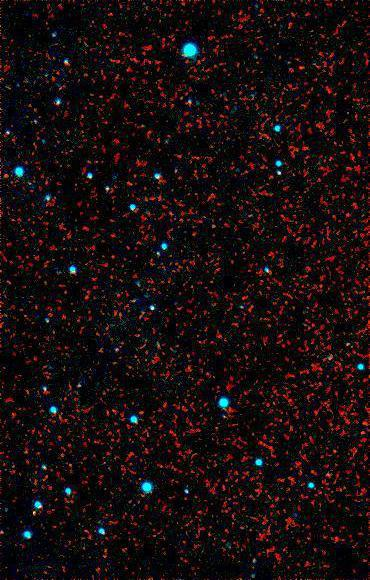star: (20, 495, 50, 525)
